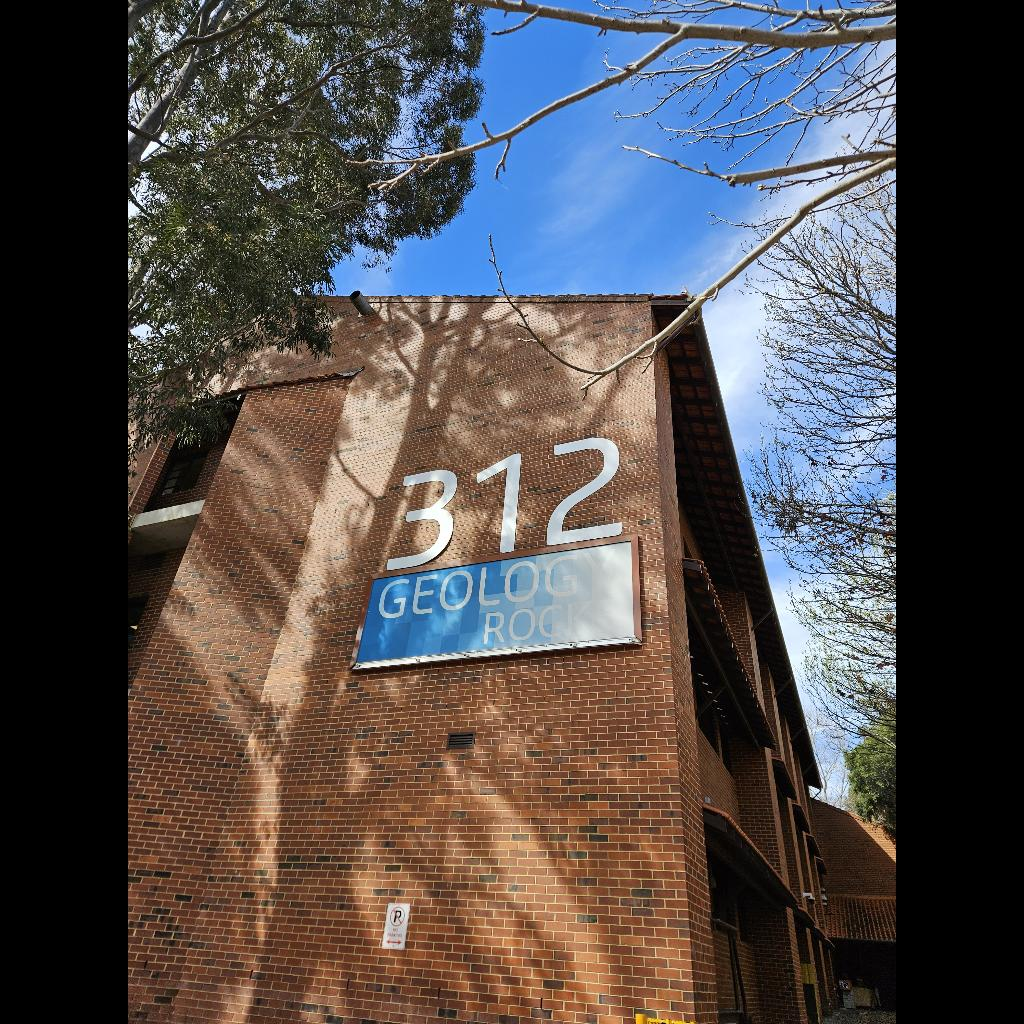BuildingCodes: (385, 437, 623, 571)
